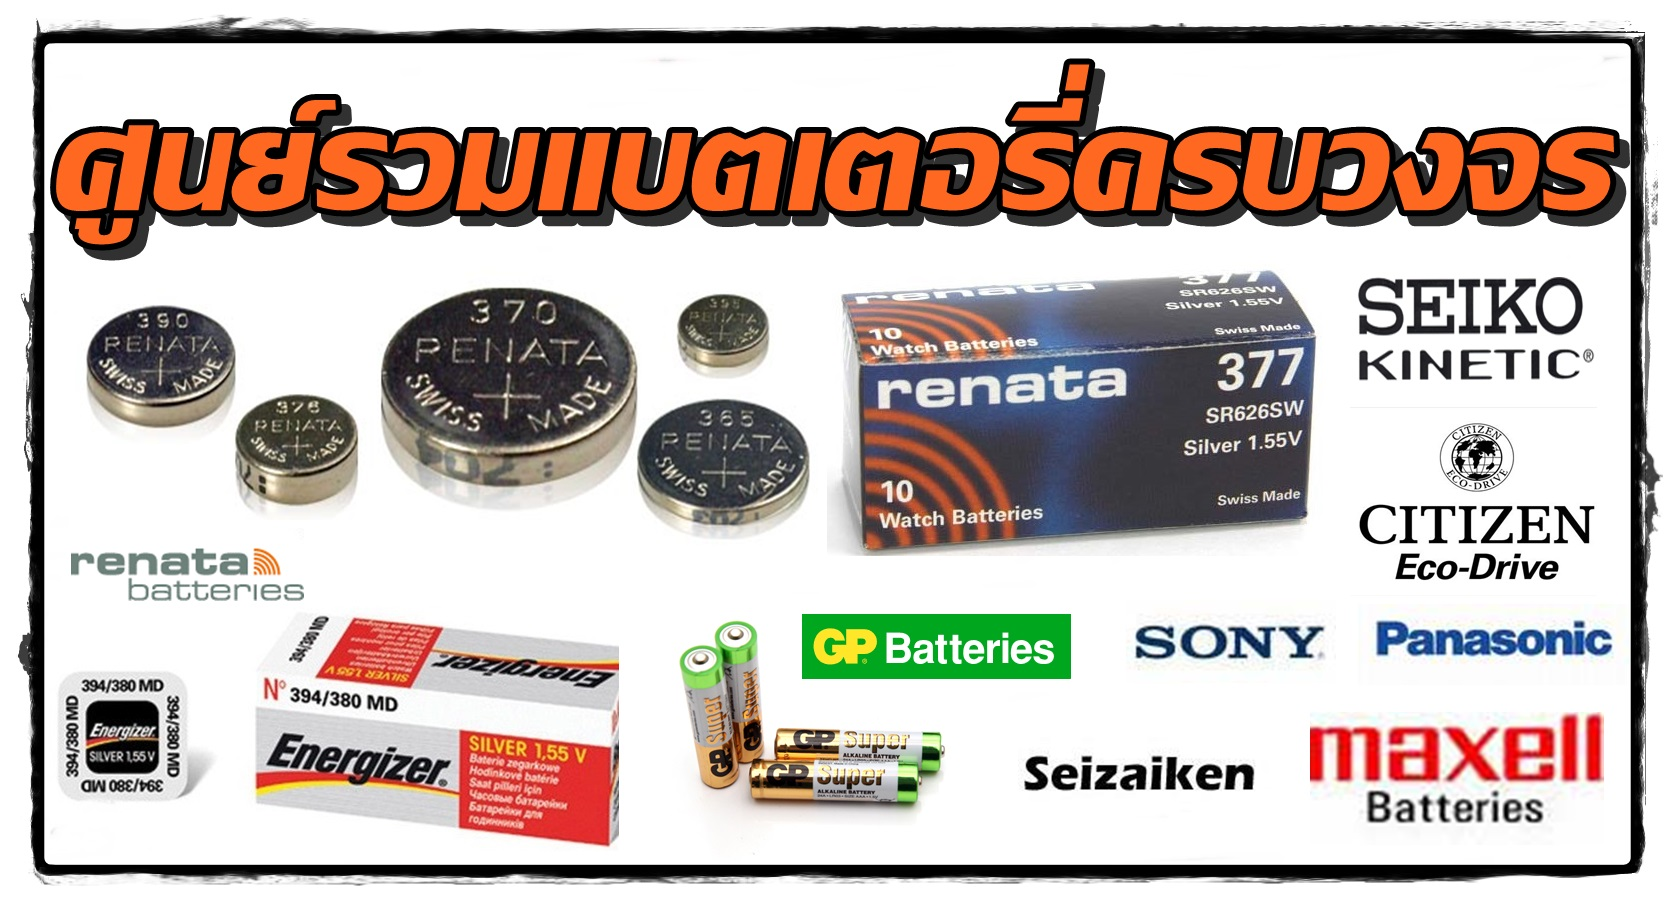Battery: (373, 279, 647, 497), (629, 394, 818, 537), (83, 301, 240, 433), (230, 389, 363, 512), (770, 723, 950, 782), (679, 641, 745, 794), (747, 755, 925, 809), (671, 290, 772, 377), (713, 613, 770, 767)
